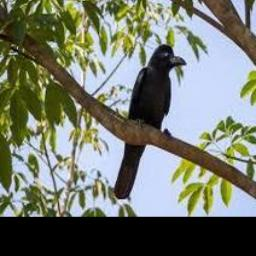Crow: (115, 44, 185, 200)
